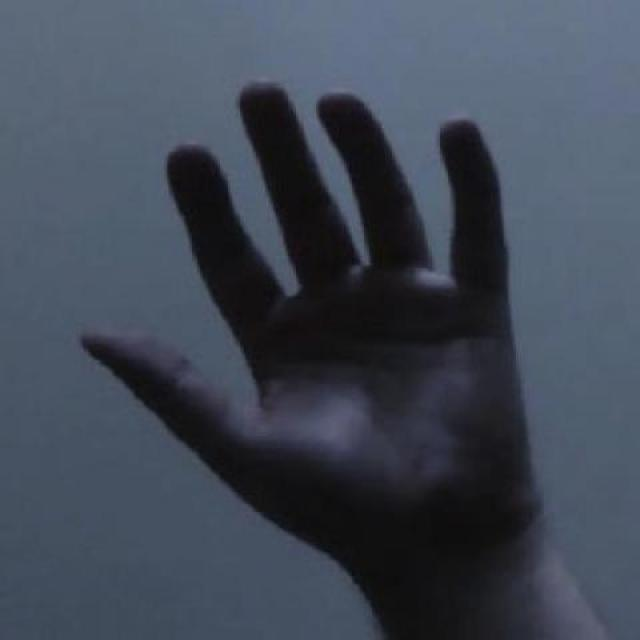Open Hand: (77, 78, 548, 578)
